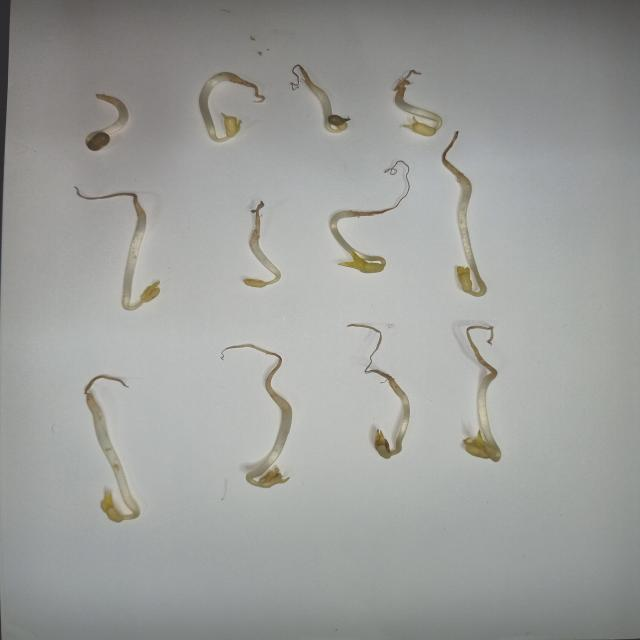leaf: (461, 434, 498, 461), (342, 253, 385, 274), (454, 266, 480, 296), (100, 491, 126, 521), (258, 466, 290, 486), (372, 427, 392, 456), (405, 120, 438, 137), (141, 280, 161, 304), (88, 134, 110, 154), (224, 114, 240, 139), (328, 115, 350, 132), (244, 279, 267, 288)
root: (212, 336, 307, 410), (352, 154, 419, 218), (344, 324, 412, 381), (66, 184, 152, 217), (459, 320, 506, 375), (67, 368, 143, 398), (439, 130, 468, 178), (239, 69, 270, 107), (288, 61, 330, 85), (391, 64, 426, 92), (250, 202, 262, 240)
stem: (92, 400, 142, 519), (460, 178, 490, 296), (248, 412, 292, 485), (333, 220, 385, 273), (79, 91, 130, 144), (201, 77, 238, 142), (124, 217, 148, 310), (478, 375, 504, 459), (391, 93, 443, 134), (316, 86, 348, 129), (254, 241, 283, 285), (392, 382, 409, 456)
